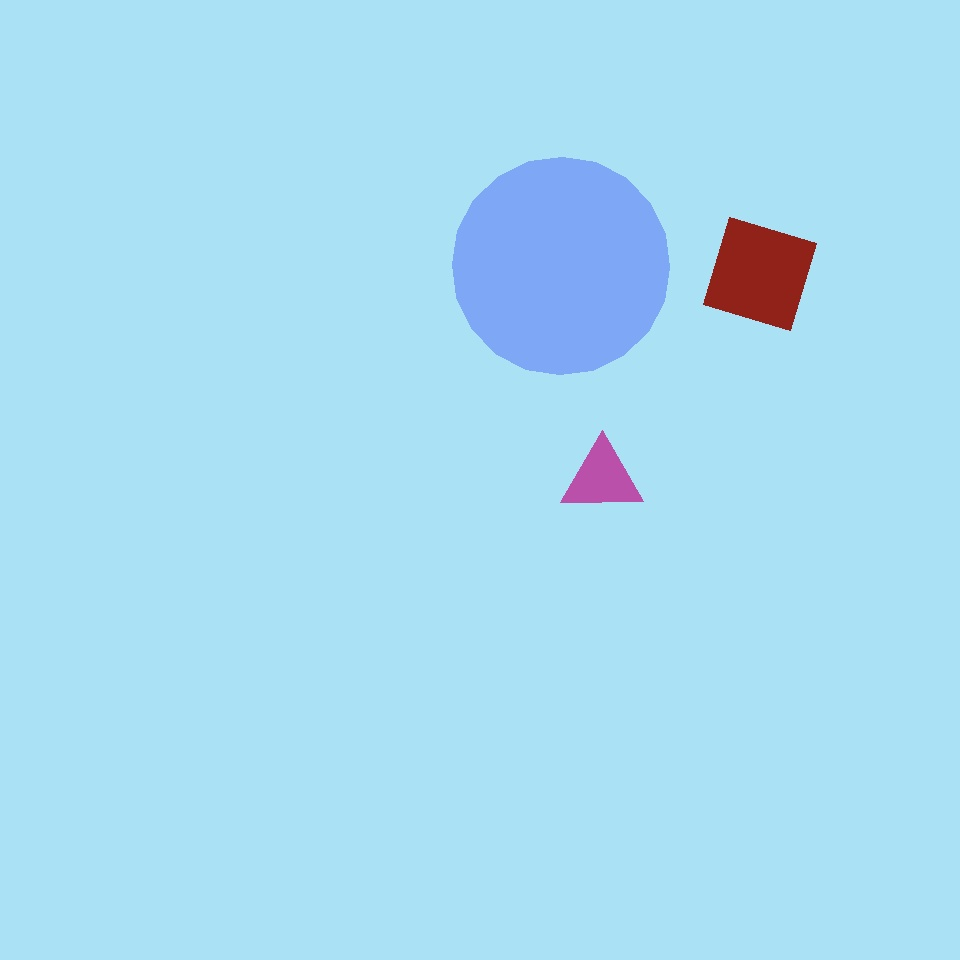circle: (408, 342, 698, 641), (391, 66, 569, 252), (396, 581, 572, 763), (284, 711, 407, 825), (560, 442, 644, 514)
square: (239, 564, 433, 757), (704, 218, 816, 330)
triangle: (569, 608, 905, 944), (452, 158, 670, 374)
